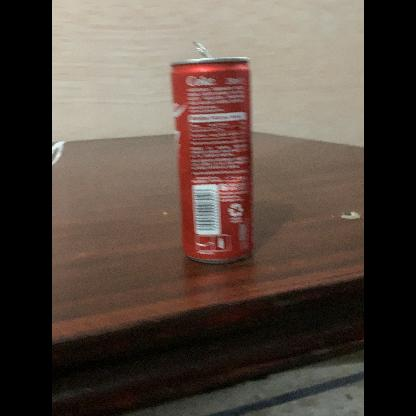Lid_Open: (190, 39, 224, 67)
Tin_Can: (164, 37, 262, 270)
